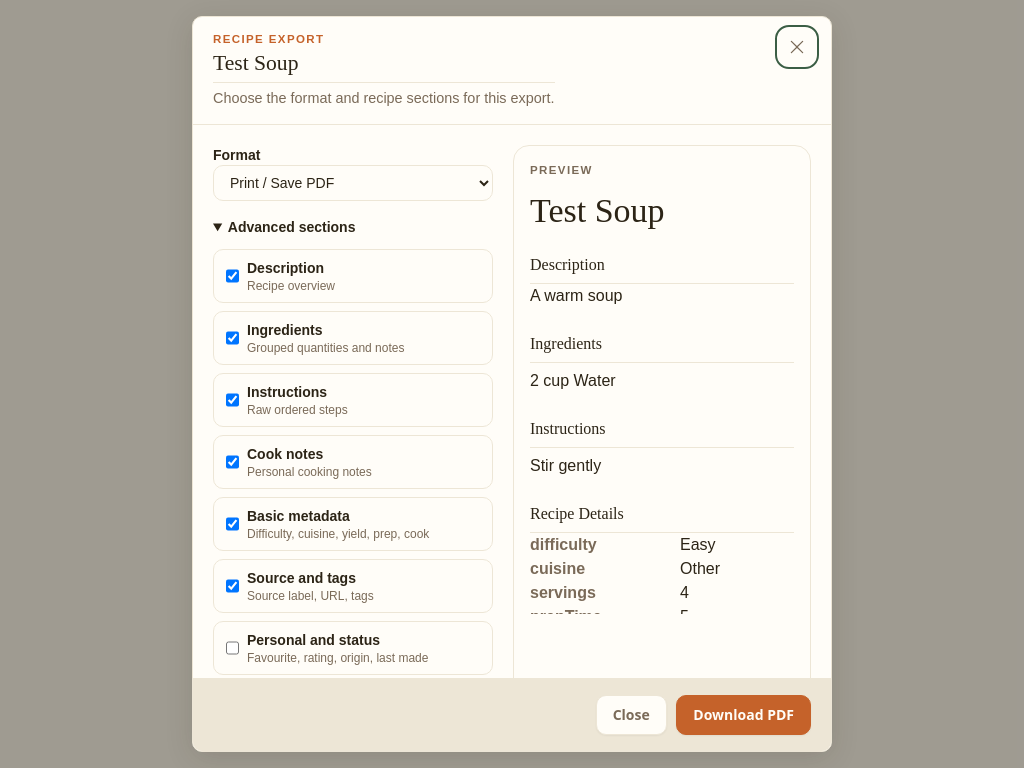
Test: RecipeDetailExportModal › downloads standalone HTML when the browser blocks print preview
Select "Print" in the dropdown named "export format" at [353, 183], box [213,165,493,201]
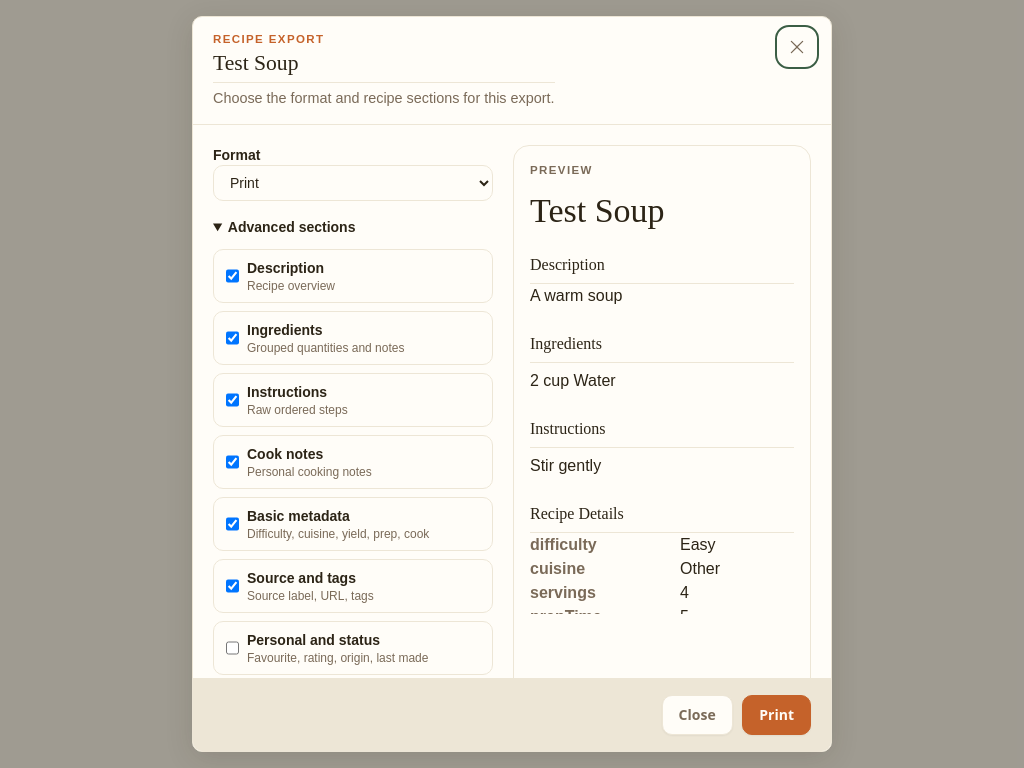
Click the button "Print" at [777, 715], box [742,695,811,735]
(page scrolled)
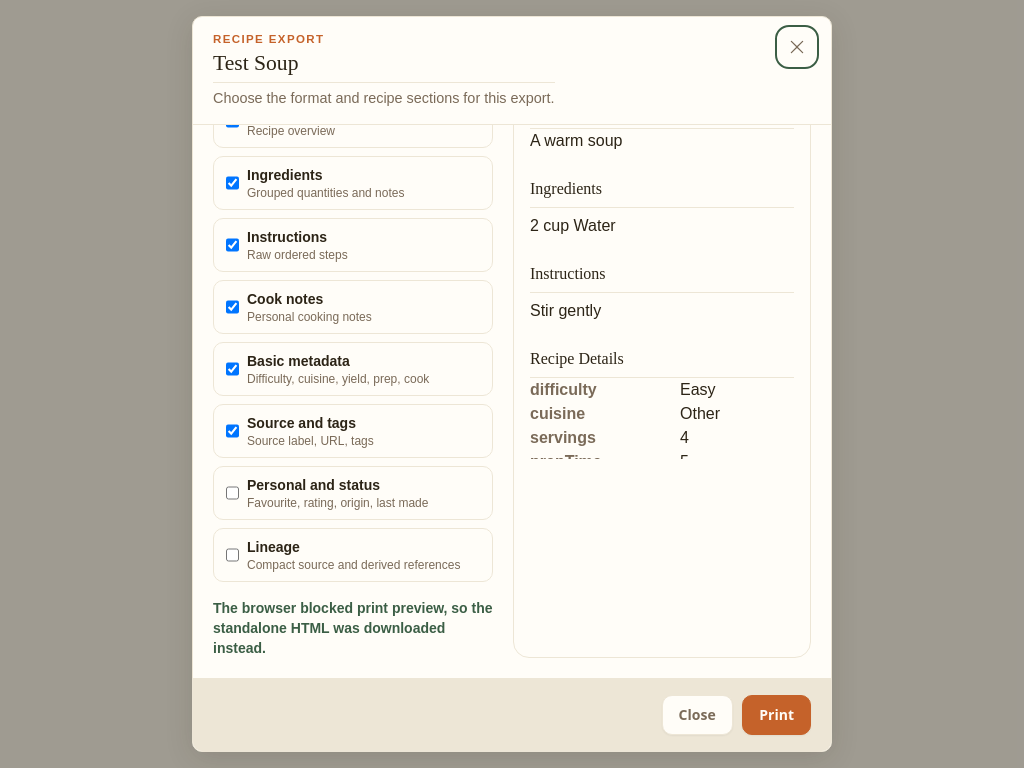
Check: the message shows "downloaded instead", box [213,600,492,656]
